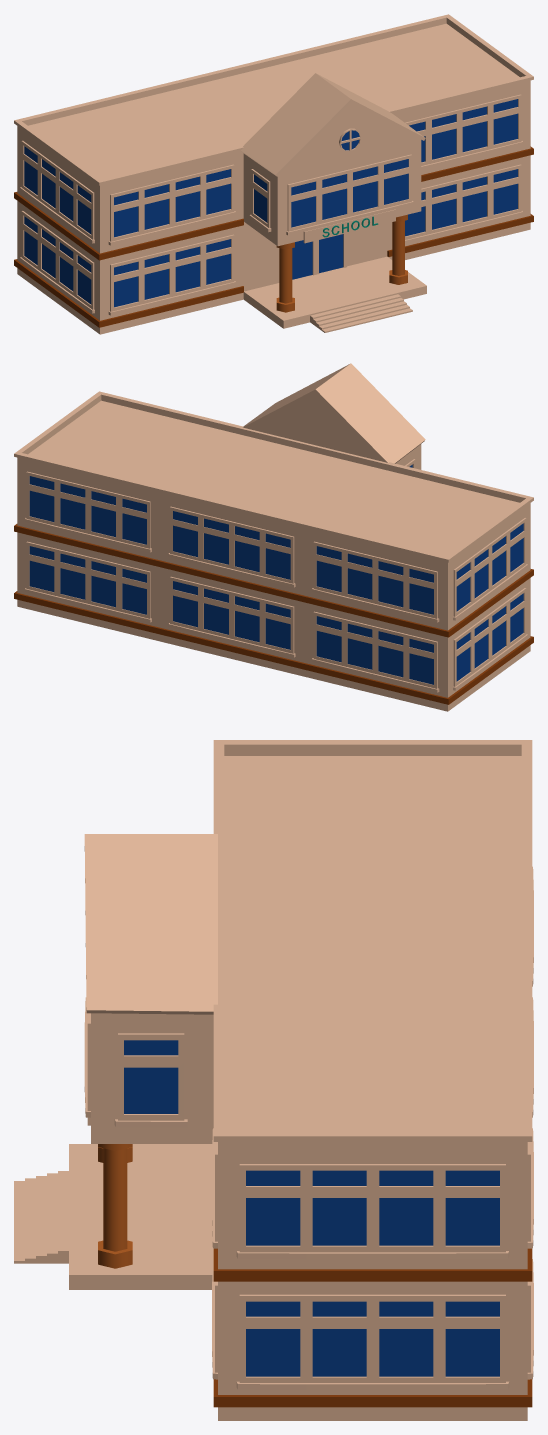
Rendered from School.obj.
3 renders of one model, top to bottom at view 1: azimuth 30°, elevation 25°; view 2: azimuth 150°, elevation 25°; view 3: azimuth 270°, elevation 25°, orthographic. The views are drawn at different scales.
Parts seen in each view (by area): view 1: School_10, School_6, School_7, School_9, School_5, School_11, School_8, School_3, School_12, School_4, School_2, School_13; view 2: School_10, School_6, School_9, School_7, School_11, School_12, School_8, School_5; view 3: School_10, School_7, School_6, School_9, School_8, School_3, School_11, School_5, School_12, School_2, School_4.
Part boxes in pixels (left/top/right/bottom): School_10: left=28, top=23, right=519, bottom=179; School_6: left=24, top=99, right=517, bottom=307; School_7: left=20, top=94, right=523, bottom=315; School_9: left=17, top=80, right=530, bottom=334; School_5: left=243, top=102, right=421, bottom=246; School_11: left=14, top=14, right=533, bottom=185; School_8: left=241, top=73, right=425, bottom=176; School_3: left=243, top=256, right=426, bottom=328; School_12: left=14, top=146, right=533, bottom=327; School_4: left=276, top=214, right=407, bottom=312; School_2: left=310, top=294, right=412, bottom=332; School_13: left=303, top=209, right=395, bottom=243; School_10: left=28, top=400, right=519, bottom=556; School_6: left=29, top=464, right=523, bottom=684; School_9: left=17, top=457, right=530, bottom=711; School_7: left=24, top=459, right=527, bottom=692; School_11: left=14, top=391, right=533, bottom=562; School_12: left=14, top=524, right=533, bottom=704; School_8: left=243, top=363, right=425, bottom=463; School_5: left=248, top=392, right=421, bottom=469; School_10: left=224, top=756, right=521, bottom=1131; School_7: left=84, top=866, right=533, bottom=1389; School_6: left=124, top=1040, right=499, bottom=1376; School_9: left=218, top=1142, right=527, bottom=1420; School_8: left=84, top=834, right=217, bottom=1014; School_3: left=69, top=1144, right=213, bottom=1289; School_11: left=213, top=740, right=532, bottom=1141; School_5: left=91, top=1013, right=213, bottom=1143; School_12: left=213, top=1248, right=532, bottom=1407; School_2: left=14, top=1171, right=68, bottom=1263; School_4: left=98, top=1144, right=132, bottom=1268.
Size of the model in its own units: 929 by 425 by 513.
